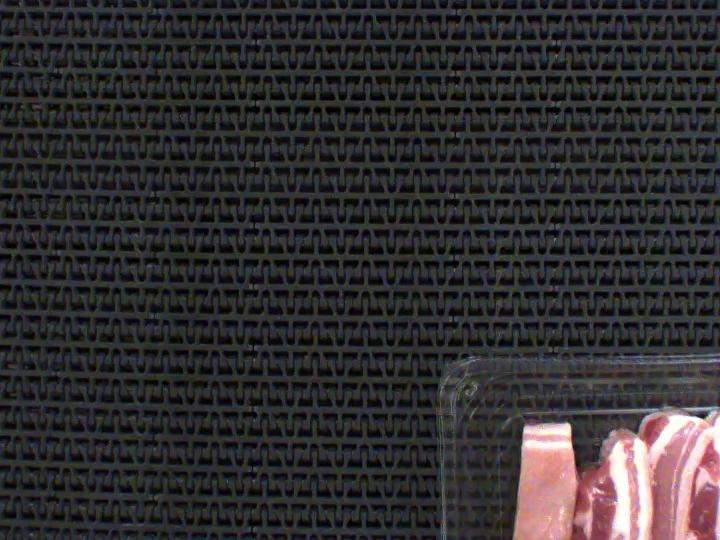twisted-meat: (486, 413, 593, 540)
